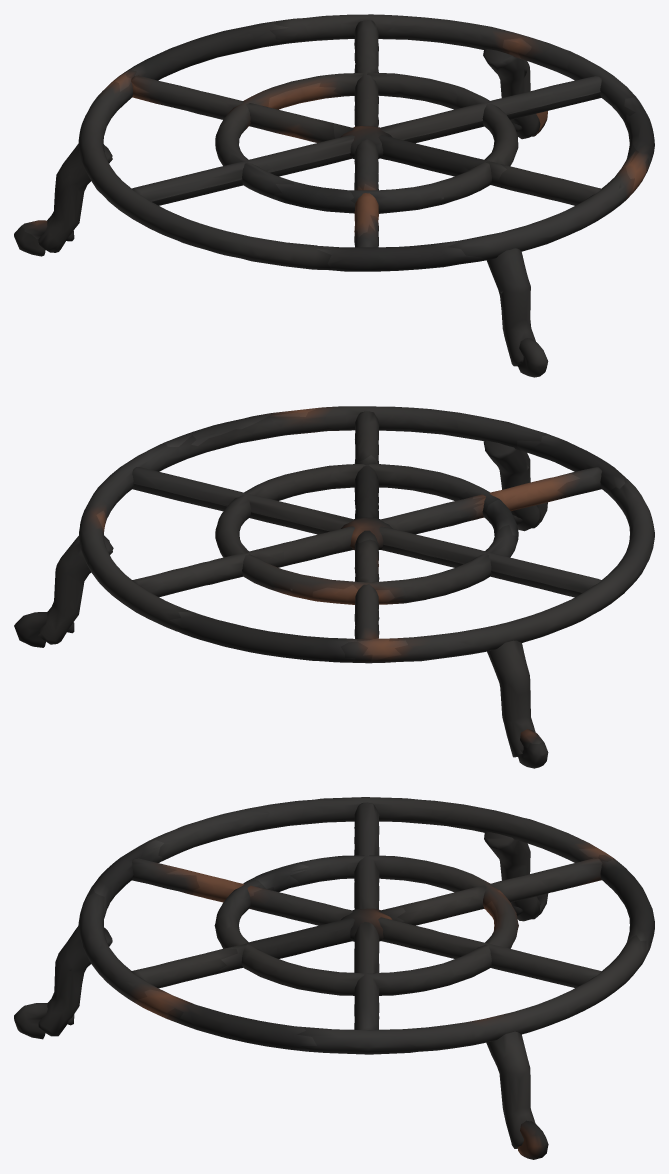
The model's file is ember_trivet.glb.
3 renders of one model, top to bottom at view 1: azimuth 30°, elevation 25°; view 2: azimuth 150°, elevation 25°; view 3: azimuth 270°, elevation 25°, orthographic.
Visible parts, largest first — view 1: ember_trivet; view 2: ember_trivet; view 3: ember_trivet.
Boxes of the visible parts, x1=… form: ember_trivet: x1=14, y1=14, x2=654, y2=377; ember_trivet: x1=14, y1=406, x2=654, y2=768; ember_trivet: x1=14, y1=797, x2=654, y2=1159.
Bounding box in the file's own units: 29.82 × 6.75 × 31.15.
